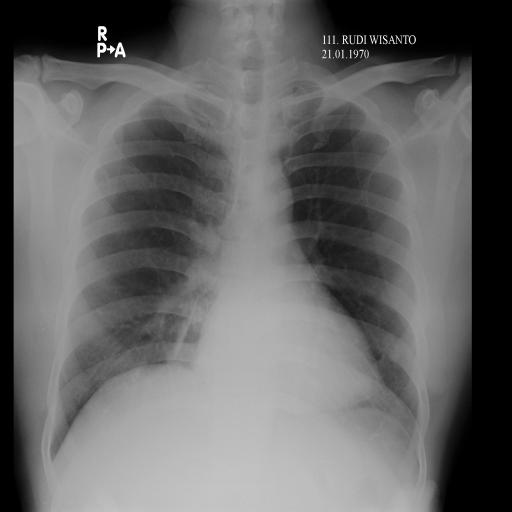kardiomegali: (43, 51, 428, 477)
